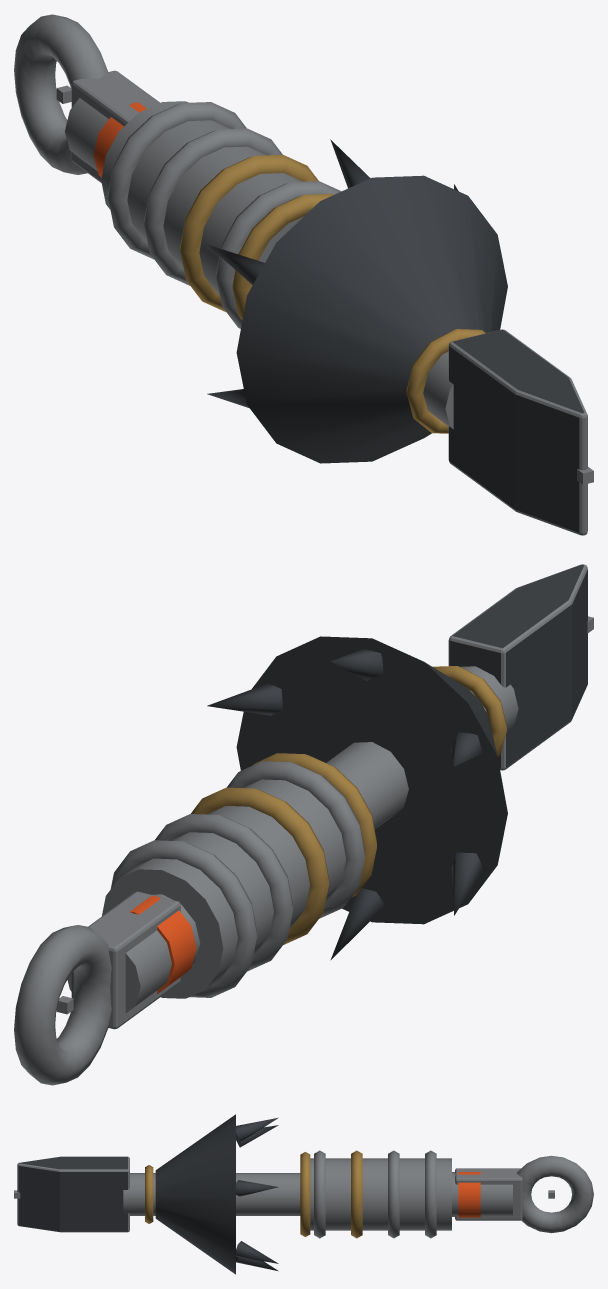
Rendered from grapple_dart_piton.fbx.
3 views of the same model, one above another, from view 1: azimuth 30°, elevation 25°; view 2: azimuth 150°, elevation 25°; view 3: azimuth 270°, elevation 25° (orthographic). The views are drawn at different scales.
Visible parts, largest first — view 1: Mesh_GrappleDart_Piton; view 2: Mesh_GrappleDart_Piton; view 3: Mesh_GrappleDart_Piton.
Part boxes in pixels (x1,y1,x2,y2): Mesh_GrappleDart_Piton: (14, 14, 587, 535); Mesh_GrappleDart_Piton: (14, 564, 587, 1085); Mesh_GrappleDart_Piton: (17, 1114, 593, 1274).
Size of the model in its own units: 10 by 10.54 by 36.03.
